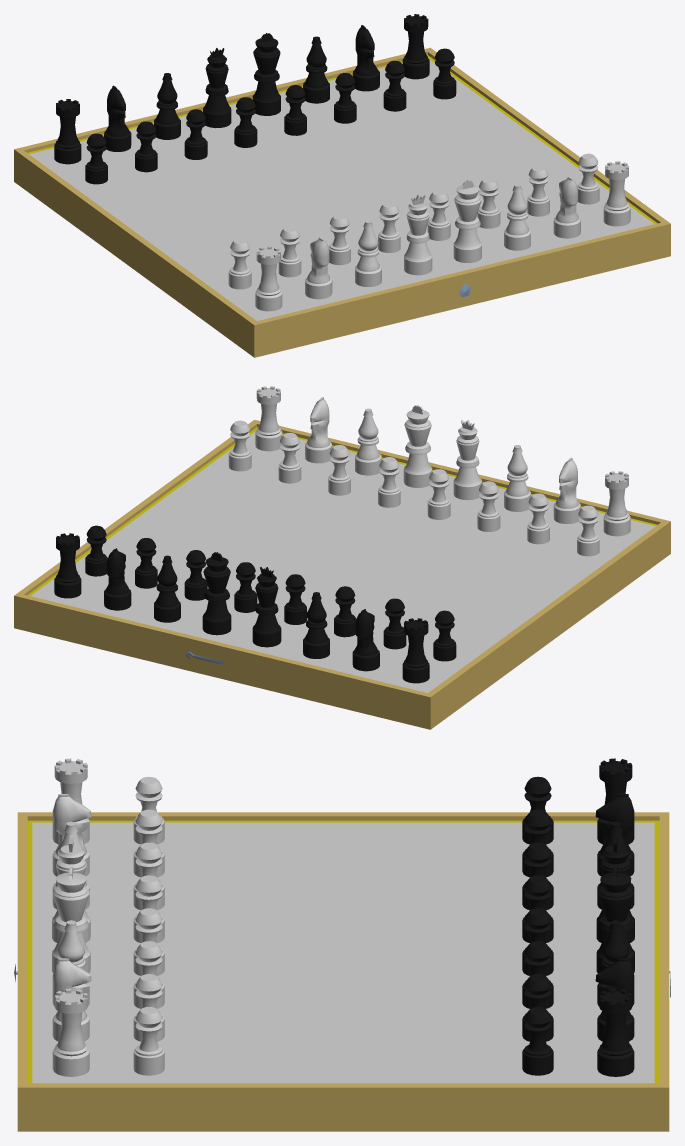
File: chess board 2.obj
3 views of the same model, one above another, from view 1: azimuth 30°, elevation 25°; view 2: azimuth 150°, elevation 25°; view 3: azimuth 270°, elevation 25° (orthographic). The views are drawn at different scales.
Visible parts, largest first — view 1: chessboard; view 2: chessboard; view 3: chessboard.
Boxes of the visible parts, x1=… form: chessboard: x1=14, y1=14, x2=670, y2=357; chessboard: x1=14, y1=386, x2=670, y2=729; chessboard: x1=14, y1=758, x2=670, y2=1131.
Size of the model in its own units: 33.5 by 8.17 by 33.79.
